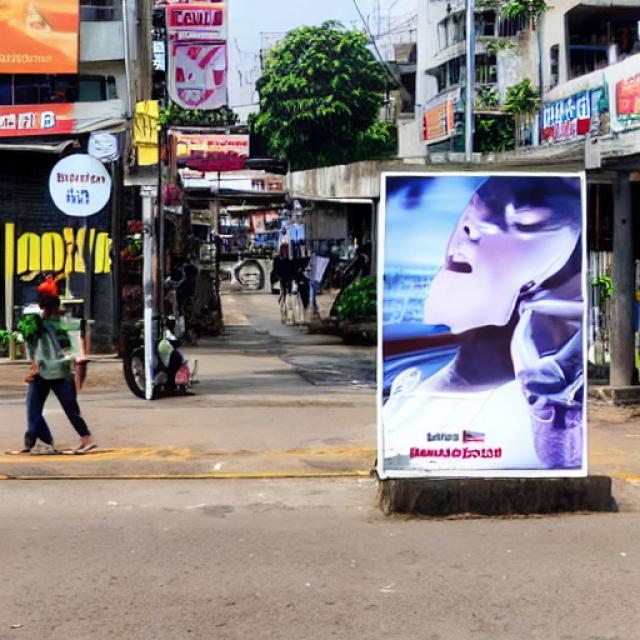Billboard: (374, 169, 589, 480)
